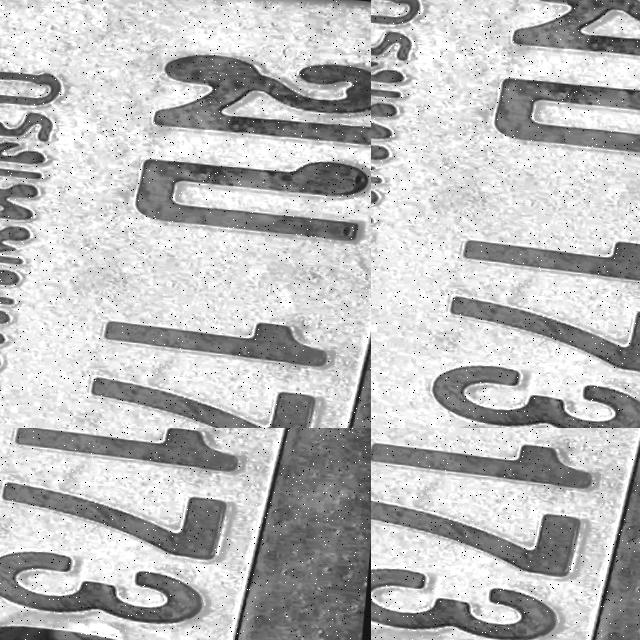license-plate: (371, 0, 640, 428), (371, 428, 640, 640)
